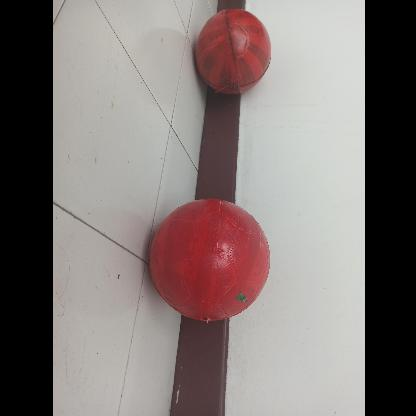red_ball: (148, 198, 270, 320), (194, 10, 274, 92)
